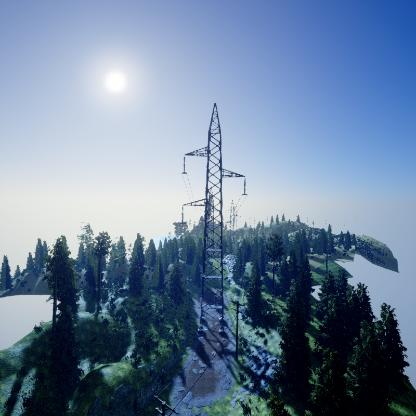tower: (178, 102, 250, 332)
